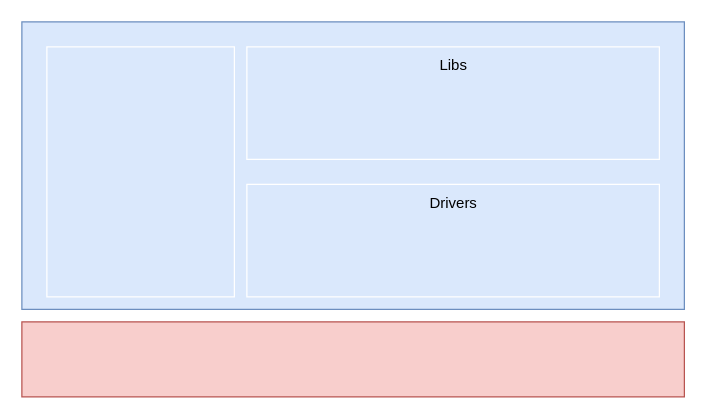
Image size: 706x419. Some labels were removed from this diagram. The shapes that lost their labels are listed below. From the top down, each one's centre as x and y in pixels, then its label:
At (x=140, y=171): "Services".
At (x=352, y=359): "Bluefield Network Adapter (ConnectX)".
